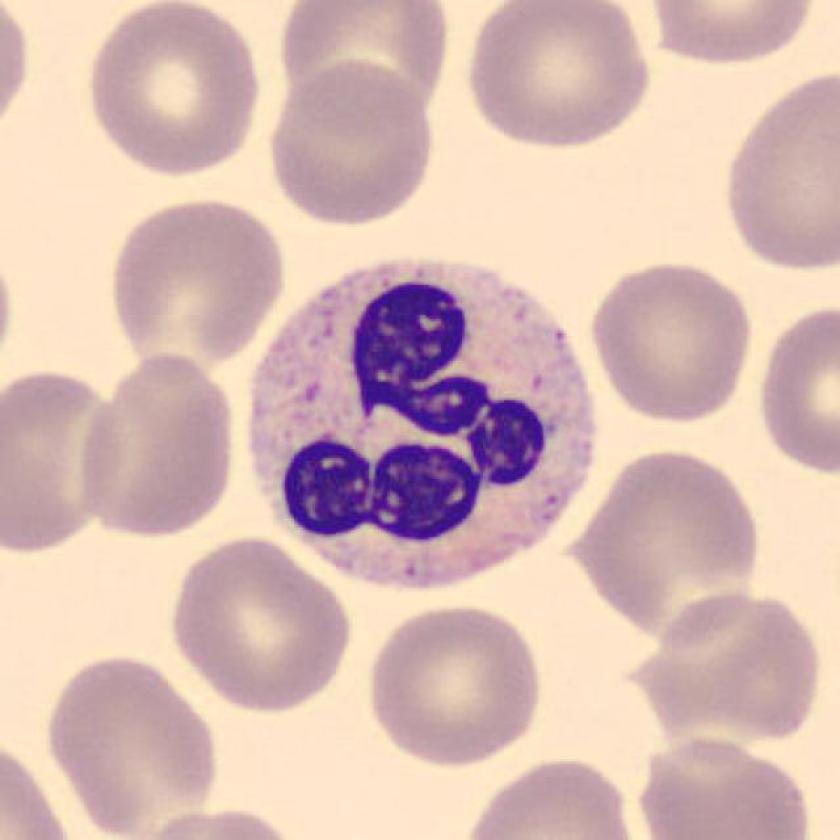neutrophil: (247, 259, 591, 583)
